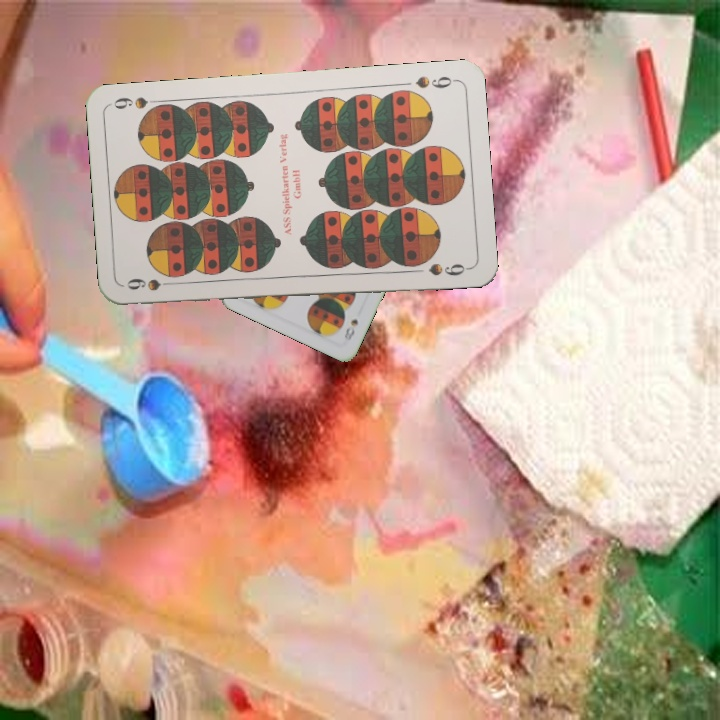S8: (340, 315, 361, 344)
S9: (123, 275, 182, 294), (412, 72, 459, 91)
